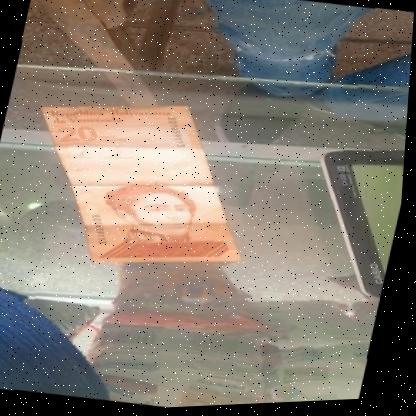twenty-front-vef: (8, 80, 278, 290)
